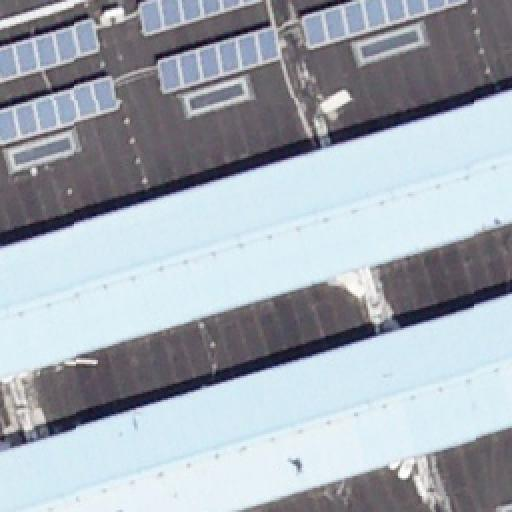solar-panel: (0, 75, 122, 149), (156, 25, 284, 95), (298, 0, 470, 48), (0, 15, 104, 81), (135, 0, 257, 36)
